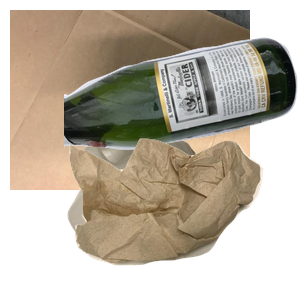cardboard: (10, 10, 250, 190)
glass: (64, 35, 300, 181)
plastic: (65, 123, 257, 300)
trash: (67, 136, 300, 300)
